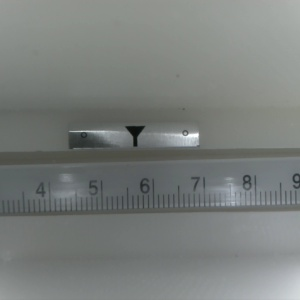4: (35, 184, 45, 198)
5: (87, 180, 97, 195)
6: (140, 177, 150, 193)
7: (191, 176, 200, 191)
8: (241, 175, 251, 190)
9: (292, 173, 300, 189)
finger: (123, 126, 144, 148)
